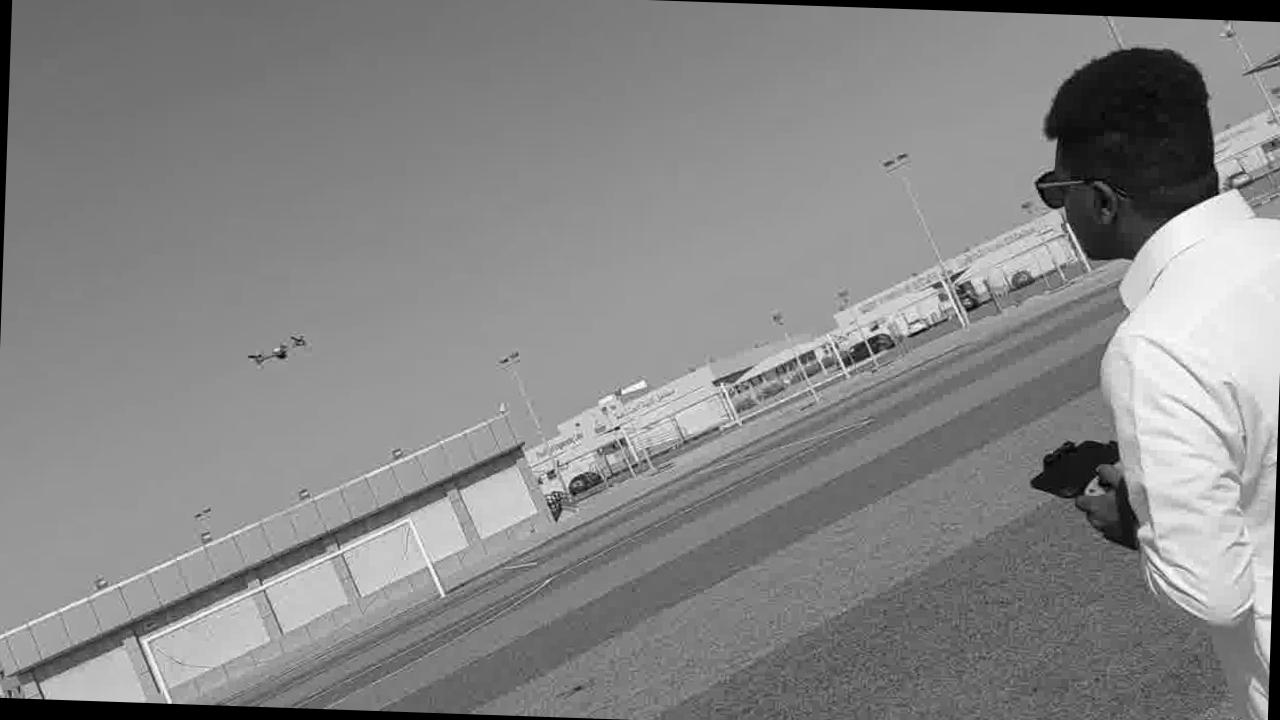drone: (230, 318, 314, 374)
